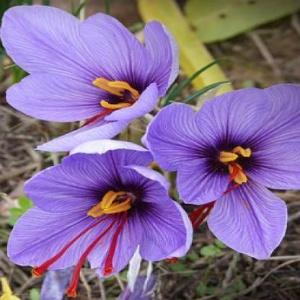Saffron: (152, 87, 300, 270), (2, 5, 178, 147), (12, 152, 195, 265)
